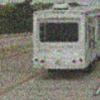buses: (34, 1, 100, 76)
